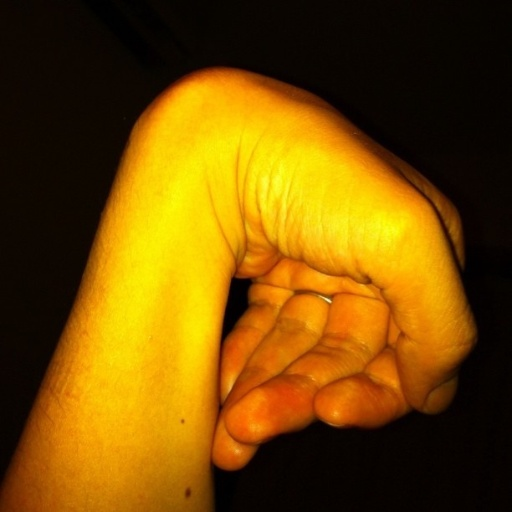hand: (205, 66, 476, 465)
